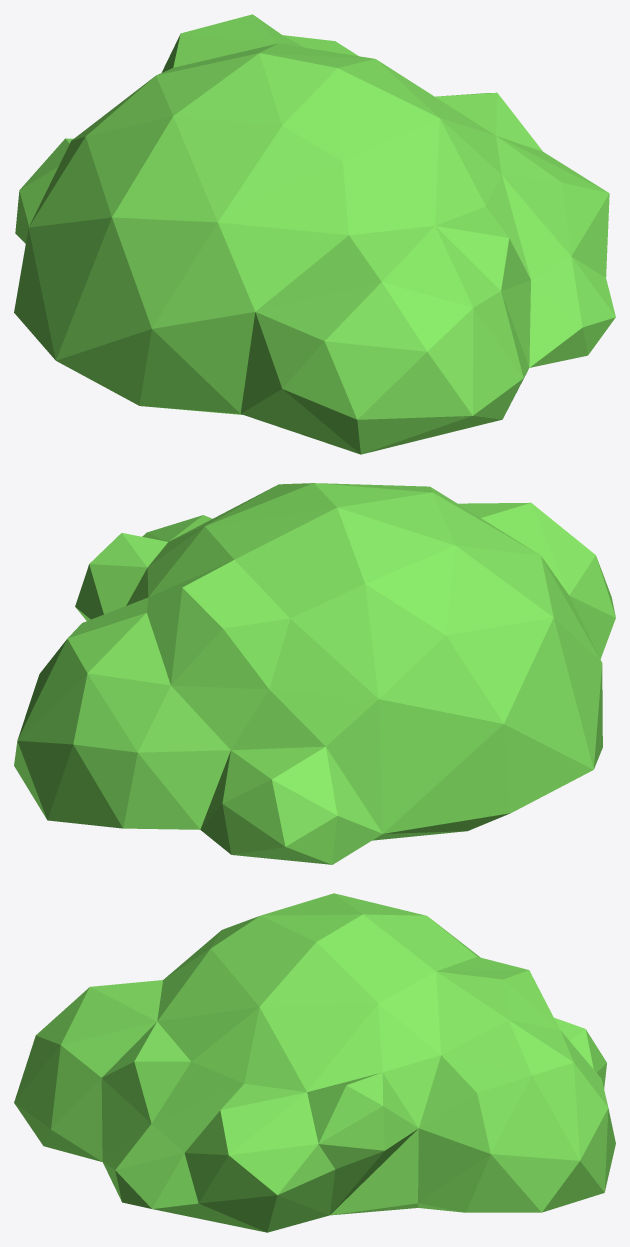
File: Bush1.fbx
3 views of the same model, one above another, from view 1: azimuth 30°, elevation 25°; view 2: azimuth 150°, elevation 25°; view 3: azimuth 270°, elevation 25° (orthographic). The views are drawn at different scales.
Parts seen in each view (by area): view 1: Bush1; view 2: Bush1; view 3: Bush1.
Boxes of the visible parts, left/top/right/bottom form: Bush1: left=14, top=14, right=615, bottom=454; Bush1: left=14, top=483, right=615, bottom=864; Bush1: left=14, top=893, right=615, bottom=1232.
Bounding box in the file's own units: 82.24 × 39.03 × 95.7.
